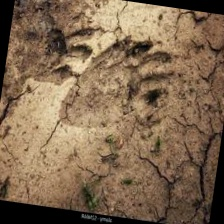raccoon: (52, 23, 189, 154)
